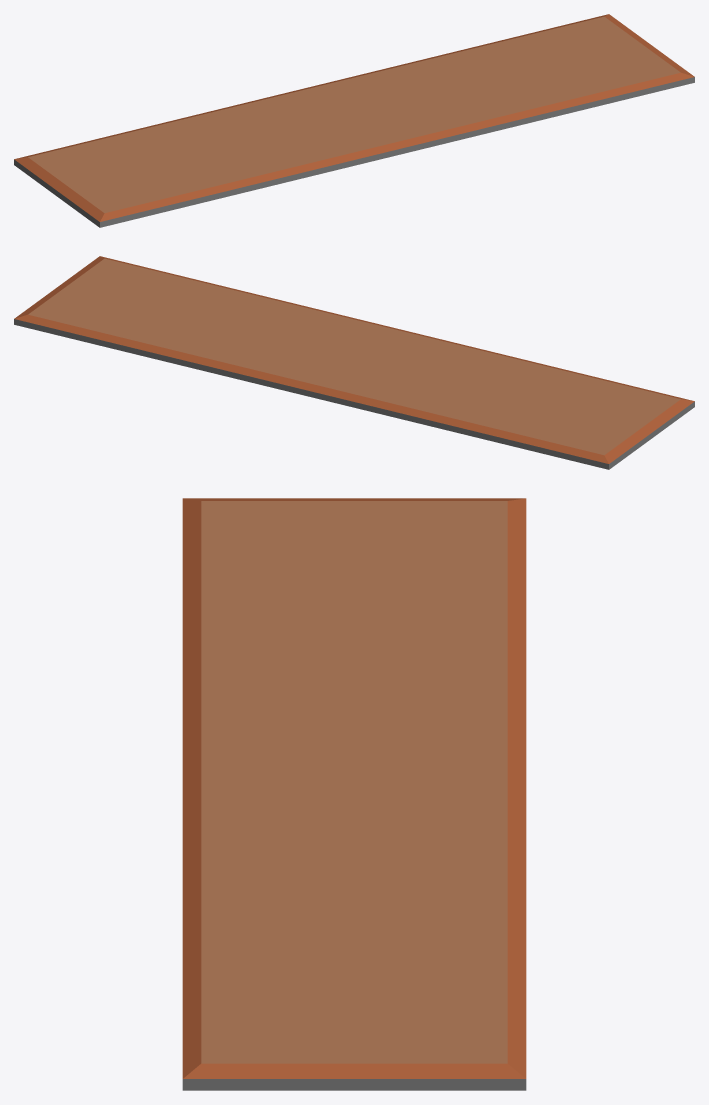
Rendered from strip.glb.
The picture shows the model from 3 angles, top to bottom: view 1: azimuth 30°, elevation 25°; view 2: azimuth 150°, elevation 25°; view 3: azimuth 270°, elevation 25°; orthographic projection. The views are drawn at different scales.
Visible parts, largest first — view 1: strip; view 2: strip; view 3: strip.
Boxes of the visible parts, x1,y1,x2,y2 form: strip: (14,14,694,227); strip: (14,256,694,469); strip: (182,498,526,1090).
Size of the model in its own units: 100 by 1.44 by 25.
